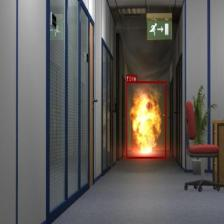fire: (126, 81, 166, 158)
